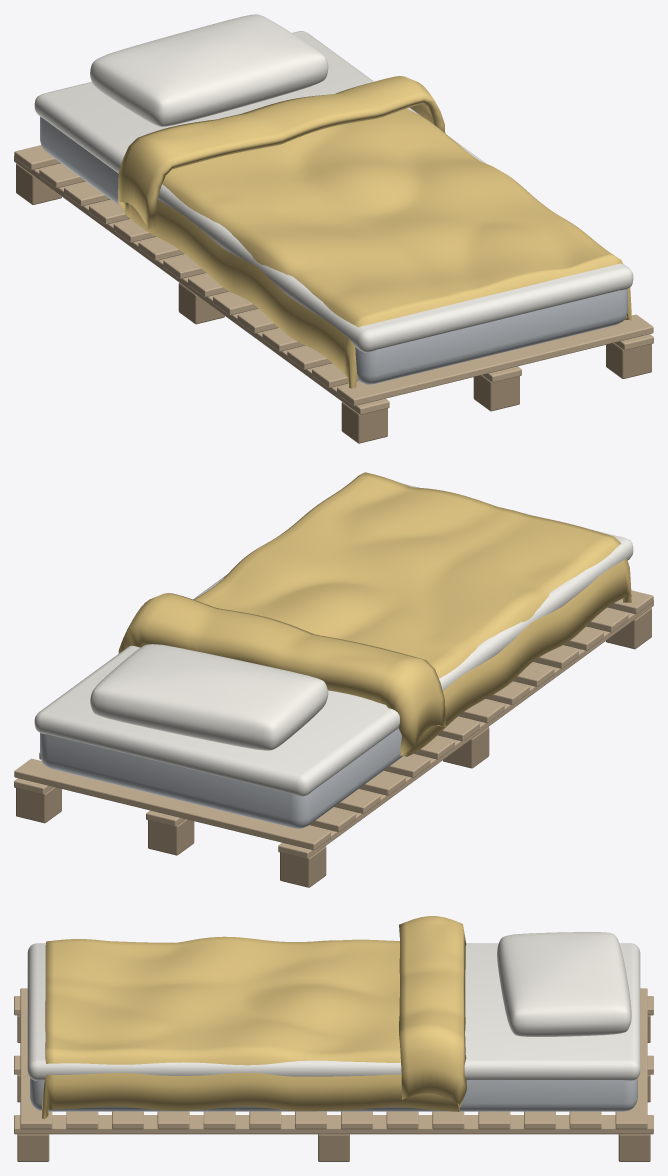
Rendered from bed_made.fbx.
3 renders of one model, top to bottom at view 1: azimuth 30°, elevation 25°; view 2: azimuth 150°, elevation 25°; view 3: azimuth 270°, elevation 25°, orthographic. The views are drawn at different scales.
Visible parts, largest first — view 1: bed_made; view 2: bed_made; view 3: bed_made.
Boxes of the visible parts, x1=… form: bed_made: x1=14, y1=14, x2=653, y2=443; bed_made: x1=14, y1=472, x2=653, y2=887; bed_made: x1=14, y1=916, x2=653, y2=1161.
Bounding box in the file's own units: 1 × 0.4638 × 2.
